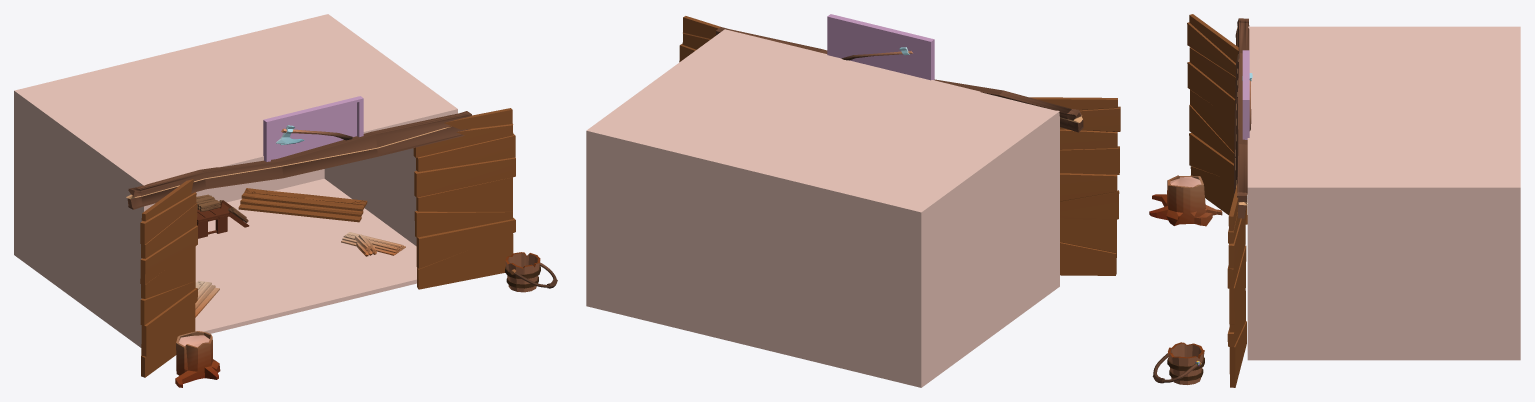
Rendered from bolumsonu2.fbx.
The picture shows the model from 3 angles, left to right: view 1: azimuth 30°, elevation 25°; view 2: azimuth 150°, elevation 25°; view 3: azimuth 270°, elevation 25°; orthographic projection. The views are drawn at different scales.
Parts seen in each view (by area): view 1: balt_2_.004; view 2: balt_2_.004; view 3: balt_2_.004.
Boxes of the visible parts, x1,y1,x2,y2 form: balt_2_.004: (14, 14, 557, 387); balt_2_.004: (586, 14, 1120, 387); balt_2_.004: (1149, 14, 1520, 387).
Size of the model in its own units: 76790 by 38030 by 58041.
1 material, 1 textured.
